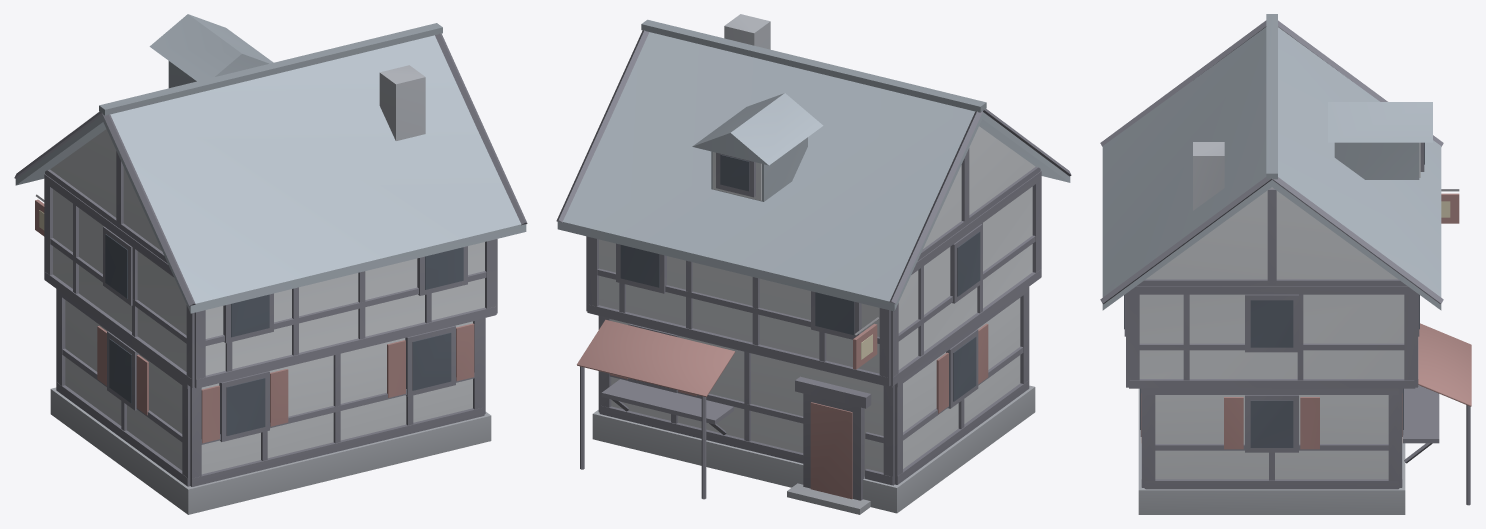
The model's file is shop_frost.gltf.
3 views of the same model, side by side, from view 1: azimuth 30°, elevation 25°; view 2: azimuth 150°, elevation 25°; view 3: azimuth 270°, elevation 25° (orthographic). The views are drawn at different scales.
Parts seen in each view (by area): view 1: Body; view 2: Body; view 3: Body.
Part boxes in pixels (<box>): Body: <box>14,14,527,514</box>; Body: <box>556,14,1071,514</box>; Body: <box>1100,14,1471,514</box>.
Size of the model in its own units: 8.37 by 8.54 by 8.23.
